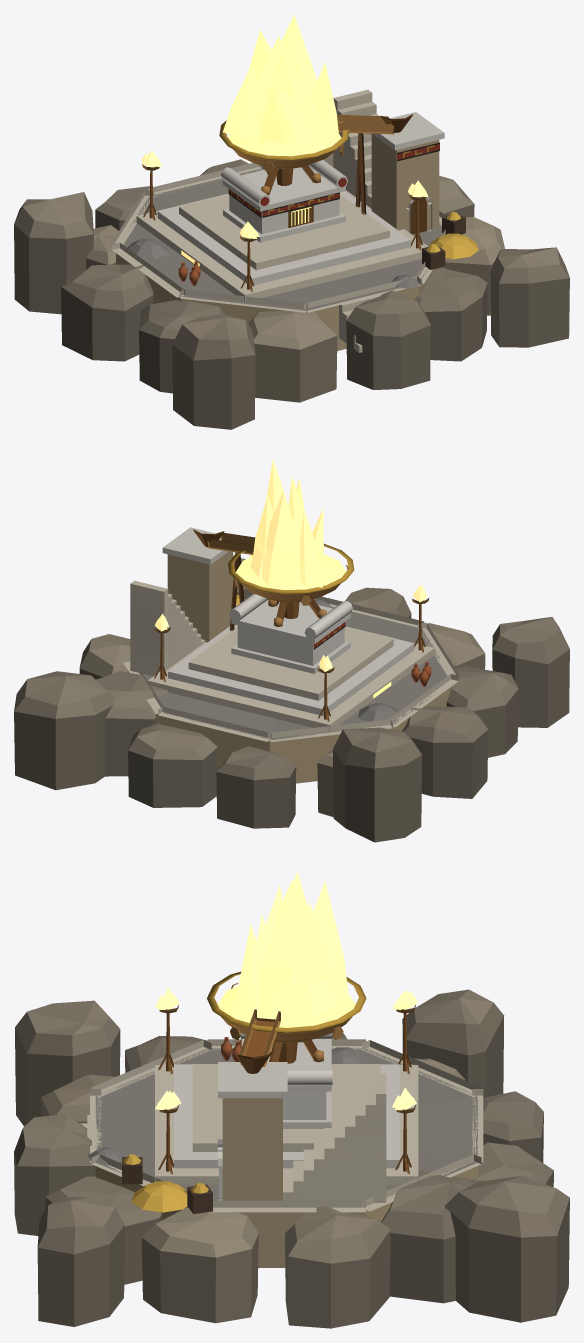
Rendered from burn.glb.
3 views of the same model, one above another, from view 1: azimuth 30°, elevation 25°; view 2: azimuth 150°, elevation 25°; view 3: azimuth 270°, elevation 25° (orthographic). The views are drawn at different scales.
Visible parts, largest first — view 1: burn_body, fire_core, burn_body_lamps; view 2: burn_body, fire_core, burn_body_lamps; view 3: burn_body, fire_core, burn_body_lamps.
Boxes of the visible parts, <box> form: burn_body: <box>14,89,569,429</box>; fire_core: <box>222,14,341,156</box>; burn_body_lamps: <box>142,150,428,238</box>; burn_body: <box>14,527,569,842</box>; fire_core: <box>235,459,345,589</box>; burn_body_lamps: <box>154,554,427,671</box>; burn_body: <box>14,971,569,1328</box>; fire_core: <box>217,871,355,1027</box>; burn_body_lamps: <box>155,987,417,1110</box>.
Size of the model in its own units: 29.98 by 20.52 by 29.56.
